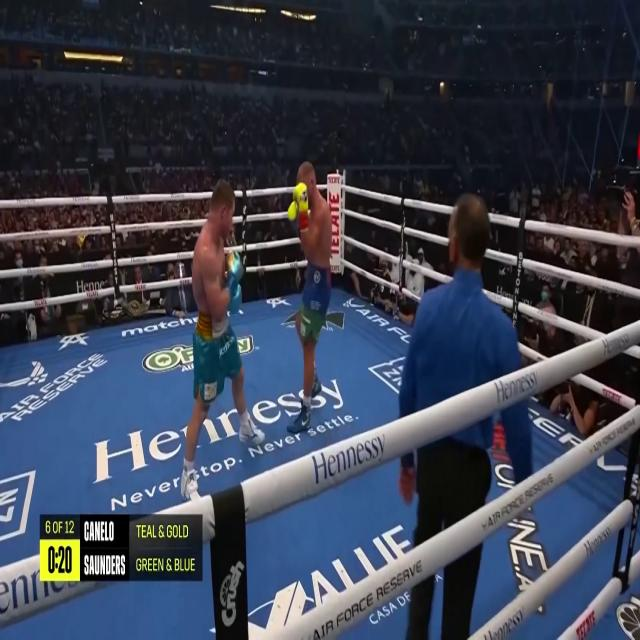boxer_1: (297, 164, 333, 266)
boxer_2: (192, 178, 235, 314)
gloves_1: (287, 182, 310, 235)
gloves_2: (226, 248, 244, 315)
